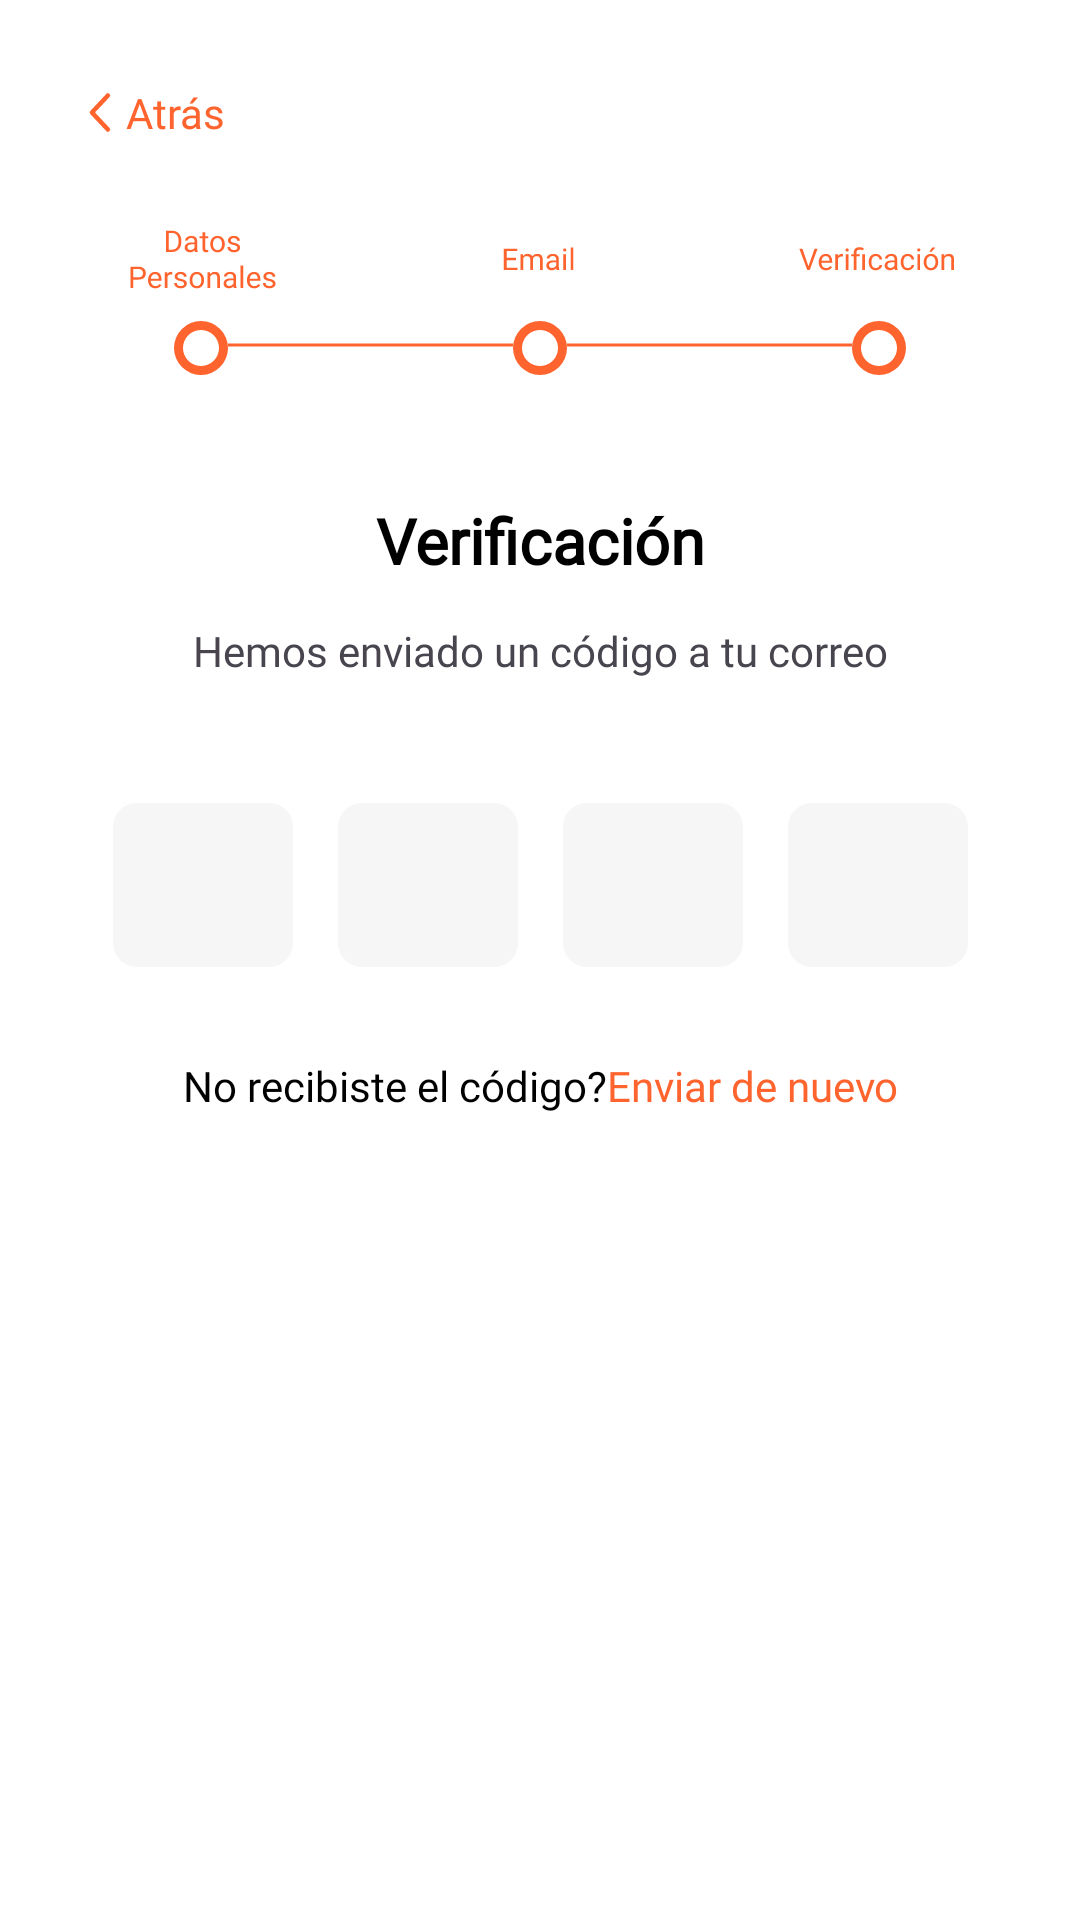

Point at icon controls on the screen. Image size 1080px x 1920px, points as [x,y].
return: [100,112]
